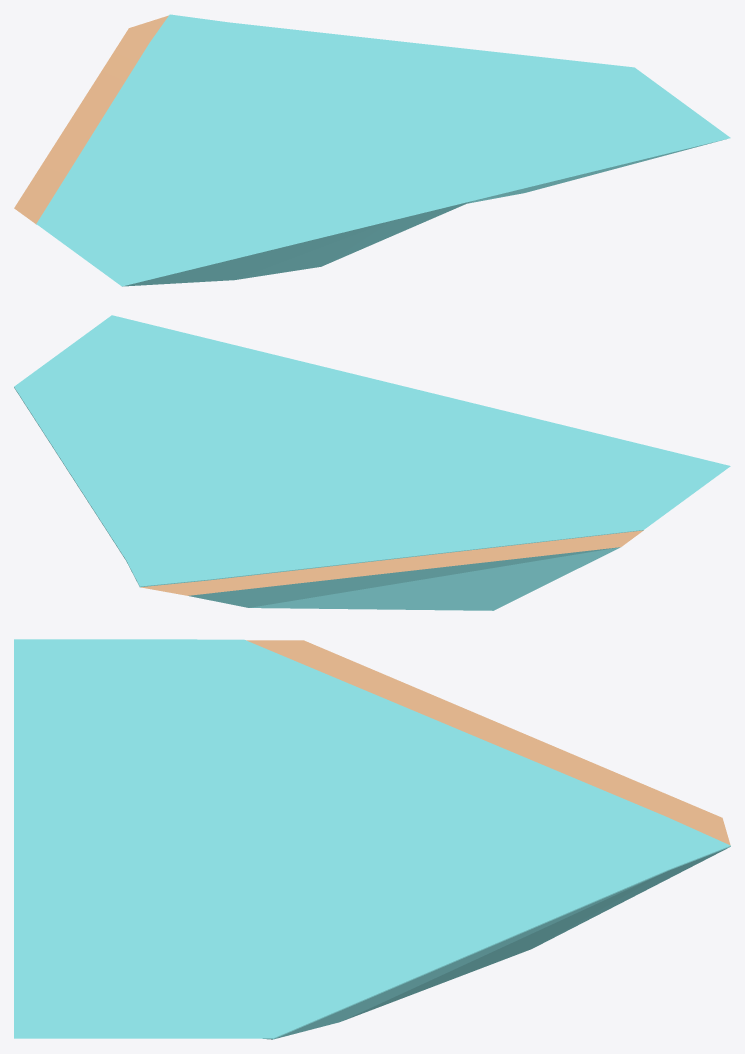
The picture shows the model from 3 angles, top to bottom: view 1: azimuth 30°, elevation 25°; view 2: azimuth 150°, elevation 25°; view 3: azimuth 270°, elevation 25°; orthographic projection. The views are drawn at different scales.
Visible parts, largest first — view 1: Object007; view 2: Object007; view 3: Object007.
Part boxes in pixels (left/top/right/bottom): Object007: left=14, top=14, right=730, bottom=286; Object007: left=14, top=315, right=730, bottom=610; Object007: left=14, top=639, right=730, bottom=1039.
Size of the model in its own units: 403 by 65.72 by 306.
